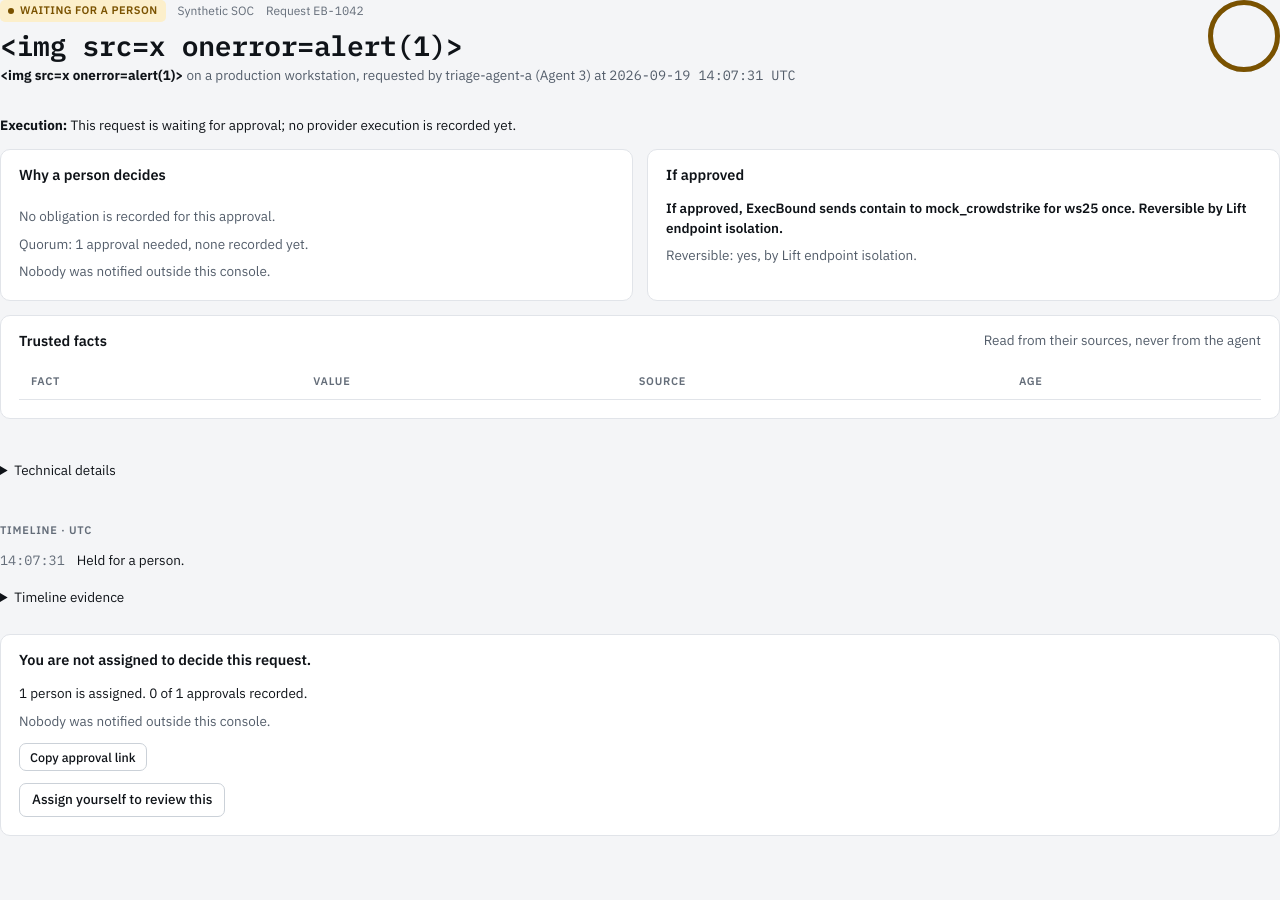
the Waiting panel (#678) › renders a hostile target and label as text in the panel and the dialog
The width and height of the screenshot is (1280, 900).
Click the button "Assign yourself to review this". click: (122, 800)
box: [19, 783, 225, 817]
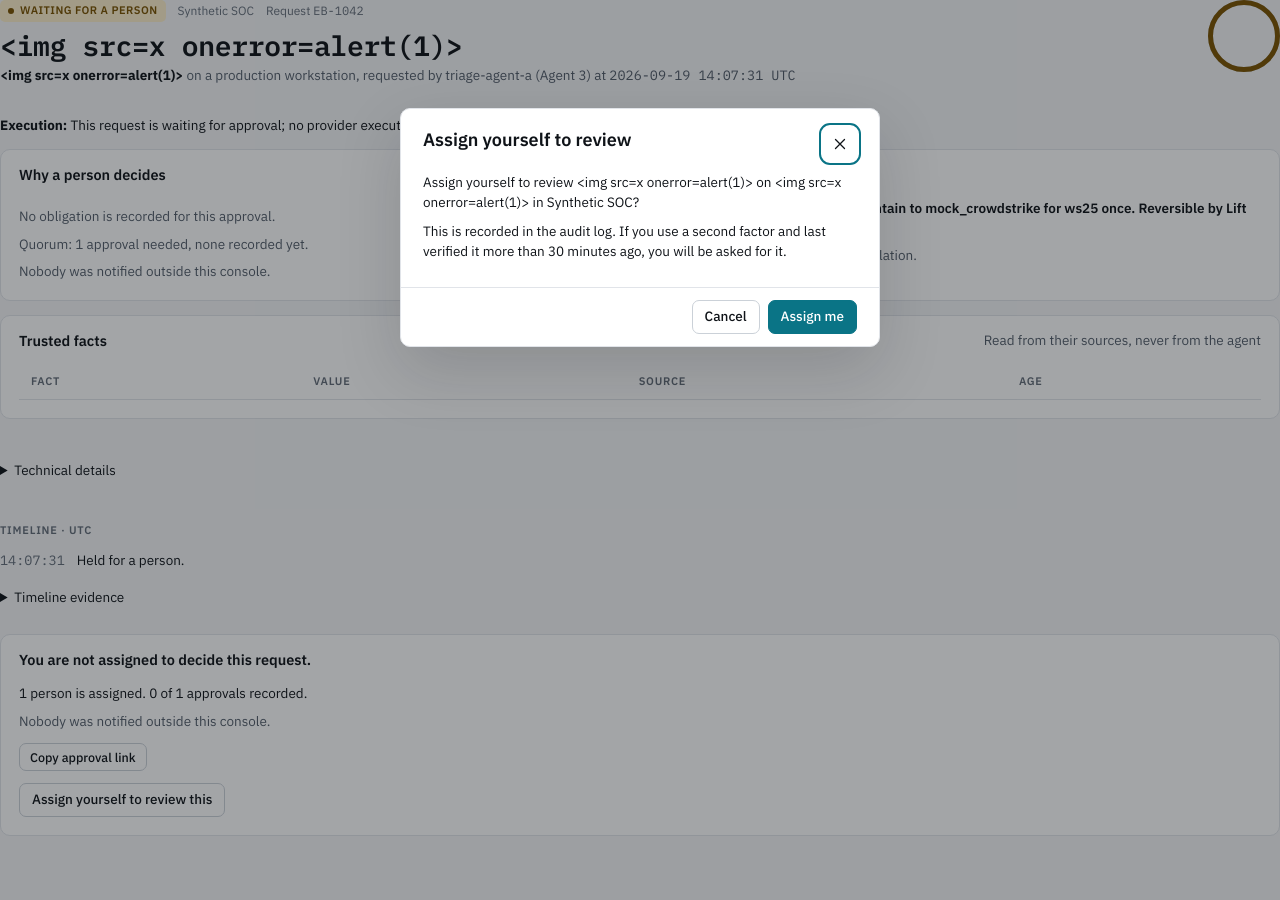
Check: the 2nd text "<img src=x onerror=alert(1)>" is shown, box [577, 173, 753, 191]
